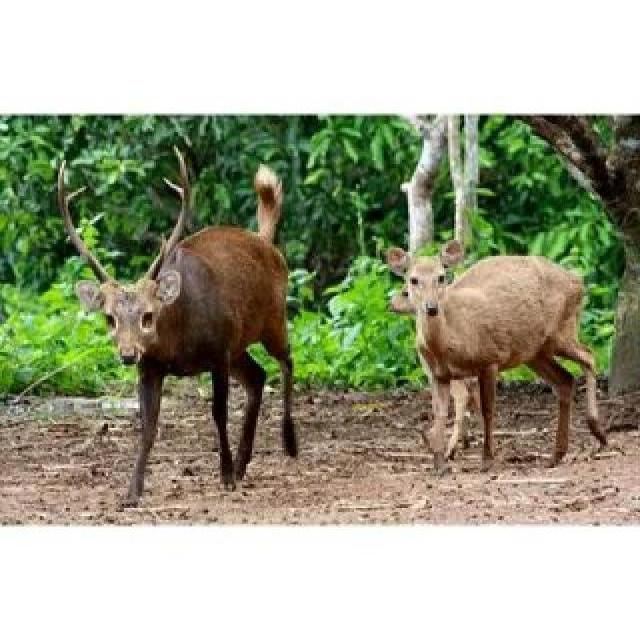deer: (56, 166, 420, 514), (356, 230, 620, 485)
